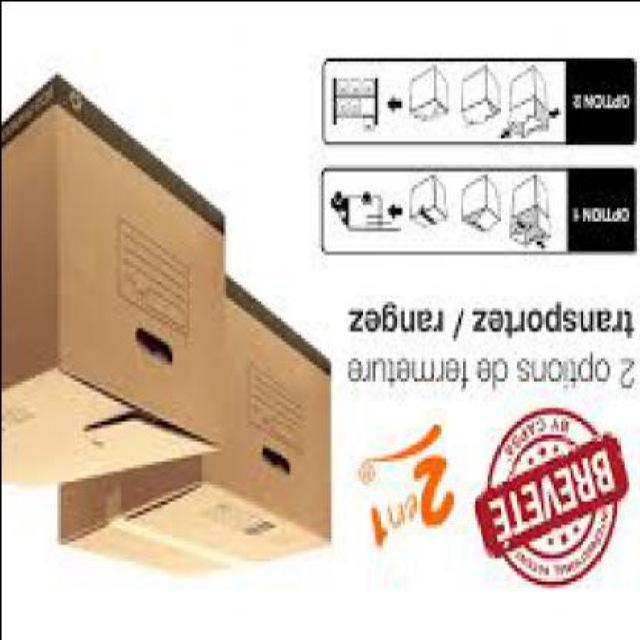CARDBOARD: (2, 77, 230, 497), (61, 273, 334, 587)
